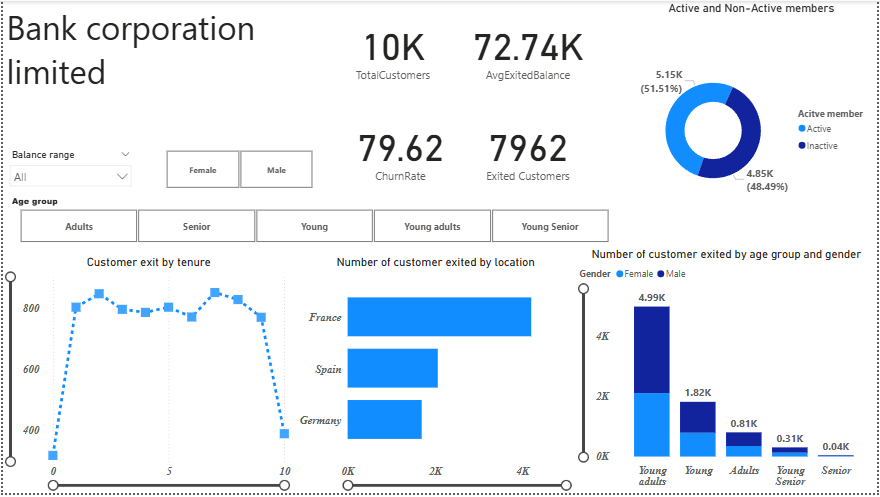

This screenshot's page, from the dashboard's own definition file:
{"tool":"powerbi","page":{"name":"Page 1","canvas":[1280,720],"ordinal":0},"visuals":[{"type":"barChart","title":"Number of customer exited by location","fields":{"Category":["Customer-Churn-Records.Geography"],"Y":["CountNonNull(Customer-Churn-Records.Exited)"]},"box":[426.7,371.7,411.7,348.3],"z":0},{"type":"columnChart","title":"Number of customer exited by age group and gender","fields":{"Category":["Customer-Churn-Records.Age group"],"Series":["Customer-Churn-Records.Gender"],"Y":["CountNonNull(Customer-Churn-Records.Exited)"]},"box":[838.3,360,440,360],"z":1000},{"type":"donutChart","title":"Active and Non-Active members","fields":{"Y":["CountNonNull(Customer-Churn-Records.IsActiveMember)"],"Category":["Customer-Churn-Records.active Yes/No"]},"box":[910,0,370,360],"z":2000},{"type":"lineChart","title":"Customer exit by tenure","fields":{"Category":["Customer-Churn-Records.Tenure"],"Y":["CountNonNull(Customer-Churn-Records.Exited)"]},"box":[0,371.7,426.7,348.3],"z":3000},{"type":"slicer","fields":{"Values":["Customer-Churn-Records.Balance range"]},"box":[0,211.7,198.3,68.3],"z":4000},{"type":"slicer","fields":{"Values":["Customer-Churn-Records.Gender"]},"box":[213.3,211.7,263.3,68.3],"z":5000},{"type":"slicer","fields":{"Values":["Customer-Churn-Records.Age group"]},"box":[0,280,910,80],"z":6000},{"type":"textbox","box":[0,0,476.7,140],"z":8000},{"type":"card","fields":{"Values":["measures (2).TotalCustomers"]},"box":[477.1,0,187.3,140.5],"z":8001},{"type":"card","fields":{"Values":["measures (2).ChurnRate"]},"box":[487.3,156.6,188.8,122.9],"z":8003},{"type":"card","fields":{"Values":["measures (2).Exited Customers"]},"box":[676.1,156.6,184.4,122.9],"z":8004},{"type":"card","fields":{"Values":["measures (2).AvgExitedBalance"]},"box":[676.1,0,184.4,140.5],"z":8005}]}

Visuals, with their boxes in screenshot pixels (x1, y1, x2, y2), scaled from the page's 1280x720 canvas onto the 880x497 screenshot:
"Number of customer exited by location" barChart: (x1=293, y1=257, x2=576, y2=496)
"Number of customer exited by age group and gender" columnChart: (x1=576, y1=248, x2=879, y2=496)
"Active and Non-Active members" donutChart: (x1=626, y1=0, x2=879, y2=248)
"Customer exit by tenure" lineChart: (x1=0, y1=257, x2=293, y2=496)
slicer - Customer-Churn-Records.Balance range: (x1=0, y1=146, x2=136, y2=193)
slicer - Customer-Churn-Records.Gender: (x1=147, y1=146, x2=328, y2=193)
slicer - Customer-Churn-Records.Age group: (x1=0, y1=193, x2=626, y2=248)
textbox: (x1=0, y1=0, x2=328, y2=97)
card - measures (2).TotalCustomers: (x1=328, y1=0, x2=457, y2=97)
card - measures (2).ChurnRate: (x1=335, y1=108, x2=465, y2=193)
card - measures (2).Exited Customers: (x1=465, y1=108, x2=592, y2=193)
card - measures (2).AvgExitedBalance: (x1=465, y1=0, x2=592, y2=97)
